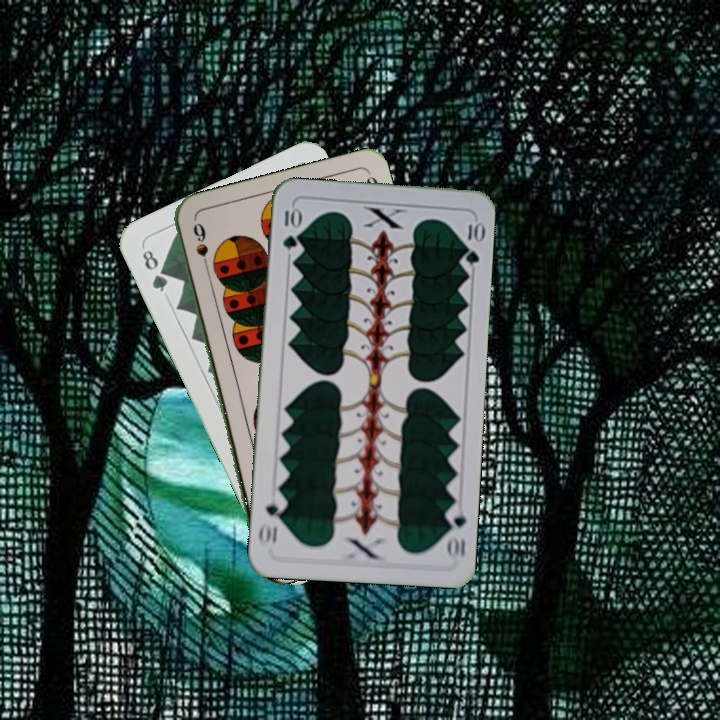G10: (441, 502, 469, 562), (279, 203, 301, 253)
G8: (138, 243, 171, 295)
S9: (189, 218, 213, 277)
